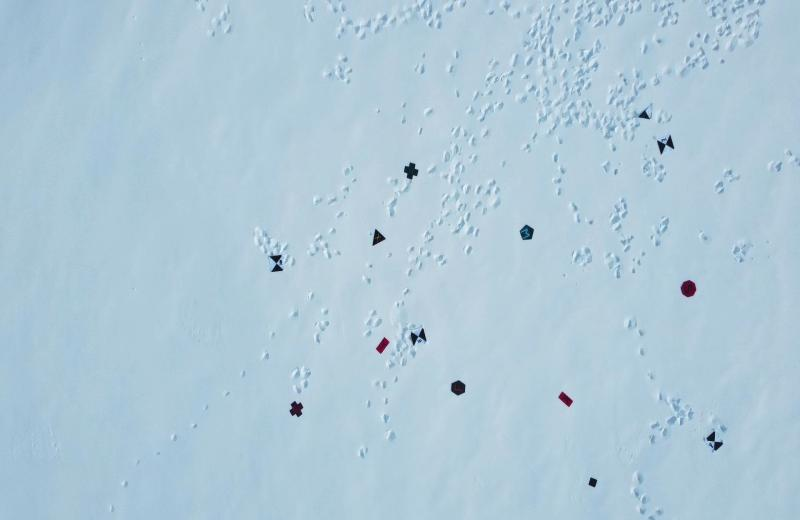Cross: (288, 401, 305, 420), (403, 162, 419, 182)
Hexagon: (449, 378, 466, 396)
Octagon: (680, 279, 698, 300)
Pentagon: (519, 223, 535, 242)
Rectangle: (375, 335, 393, 356), (557, 388, 575, 408)
Square: (588, 474, 599, 489)
Triangle: (370, 229, 388, 248)
